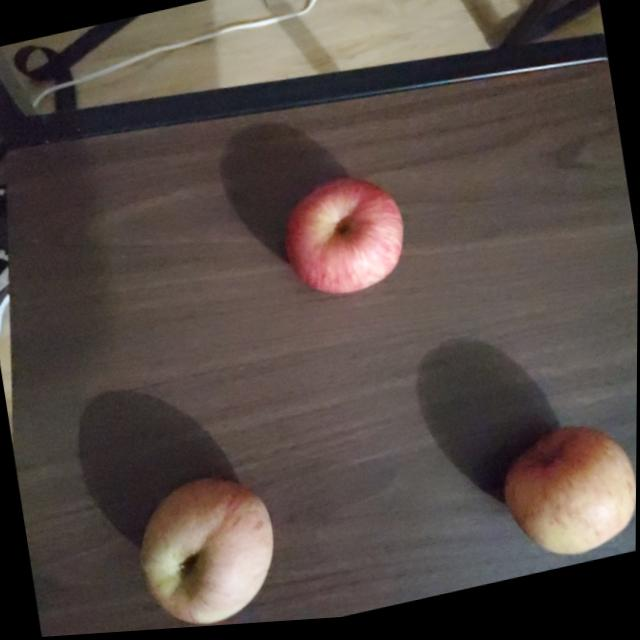apple: (130, 470, 290, 633), (501, 423, 637, 580), (281, 172, 415, 312)
